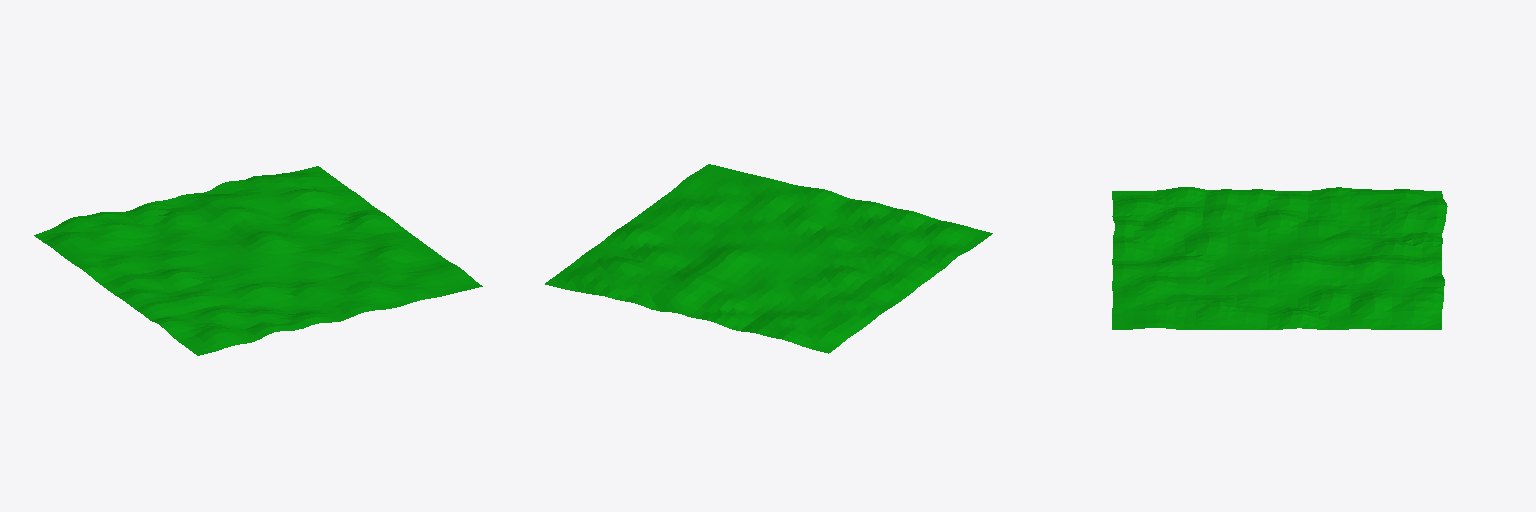
The model's file is ground.obj.
The picture shows the model from 3 angles: view 1: azimuth 30°, elevation 25°; view 2: azimuth 150°, elevation 25°; view 3: azimuth 270°, elevation 25°; orthographic projection.
Parts seen in each view (by area): view 1: Plane; view 2: Plane; view 3: Plane.
Part boxes in pixels (bbox=[...]): Plane: bbox=[34, 166, 482, 355]; Plane: bbox=[545, 164, 992, 353]; Plane: bbox=[1112, 187, 1447, 329].
Bounding box in the file's own units: 10.26 × 0.422 × 10.4.